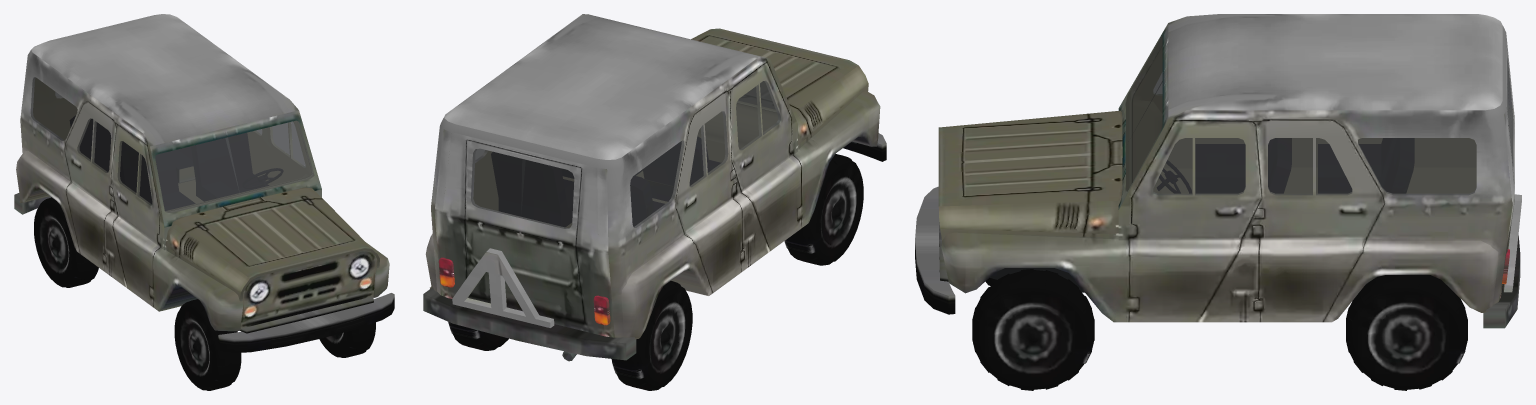
Rendered from vehicle-jeep.glb.
3 views of the same model, side by side, from view 1: azimuth 30°, elevation 25°; view 2: azimuth 150°, elevation 25°; view 3: azimuth 270°, elevation 25° (orthographic). The views are drawn at different scales.
Visible parts, largest first — view 1: Body, Glass, wheel.003, wheel.002, wheel, helm; view 2: Body, Glass, wheel.003, wheel.002, wheel.001; view 3: Body, Glass, wheel, wheel.001.
Boxes of the visible parts, x1,y1,x2,y2 form: Body: (14,14,394,352); Glass: (30,77,314,212); wheel.003: (174,299,241,390); wheel.002: (34,197,98,287); wheel: (319,322,375,357); helm: (242,168,283,188); Body: (423,14,886,361); Glass: (471,81,780,228); wheel.003: (784,154,863,265); wheel.002: (611,281,692,390); wheel.001: (448,322,508,350); Body: (915,14,1521,328); Glass: (1126,36,1513,195); wheel: (972,269,1094,390); wheel.001: (1346,275,1467,390).
Size of the model in its own units: 183 by 215 by 413.
Materials: 2 (2 with a texture image).
